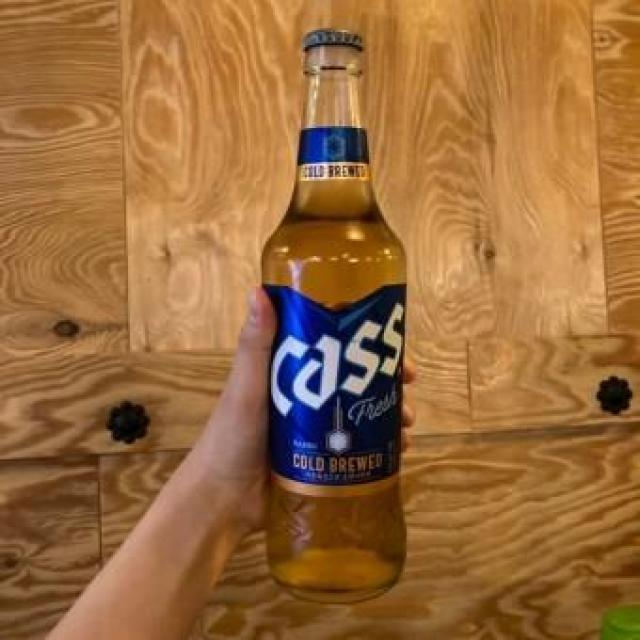beer-bottle: (258, 19, 426, 614)
